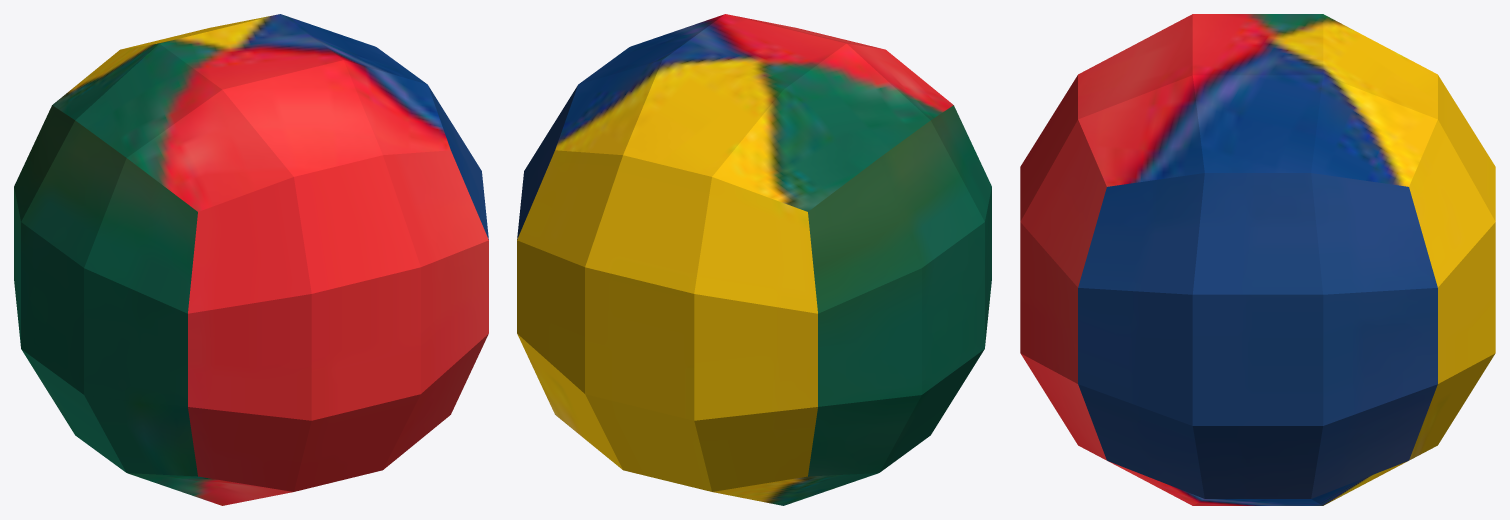
File: juggling ball.glb
3 views of the same model, side by side, from view 1: azimuth 30°, elevation 25°; view 2: azimuth 150°, elevation 25°; view 3: azimuth 270°, elevation 25° (orthographic). The views are drawn at different scales.
Parts seen in each view (by area): view 1: Cube; view 2: Cube; view 3: Cube.
Boxes of the visible parts, box(x1,y1,x2,y2) form: Cube: box(14, 14, 488, 505); Cube: box(517, 14, 991, 505); Cube: box(1020, 14, 1495, 505).
Bounding box in the file's own units: 3.15 × 3.15 × 3.15.
Materials: 1 (1 with a texture image).
